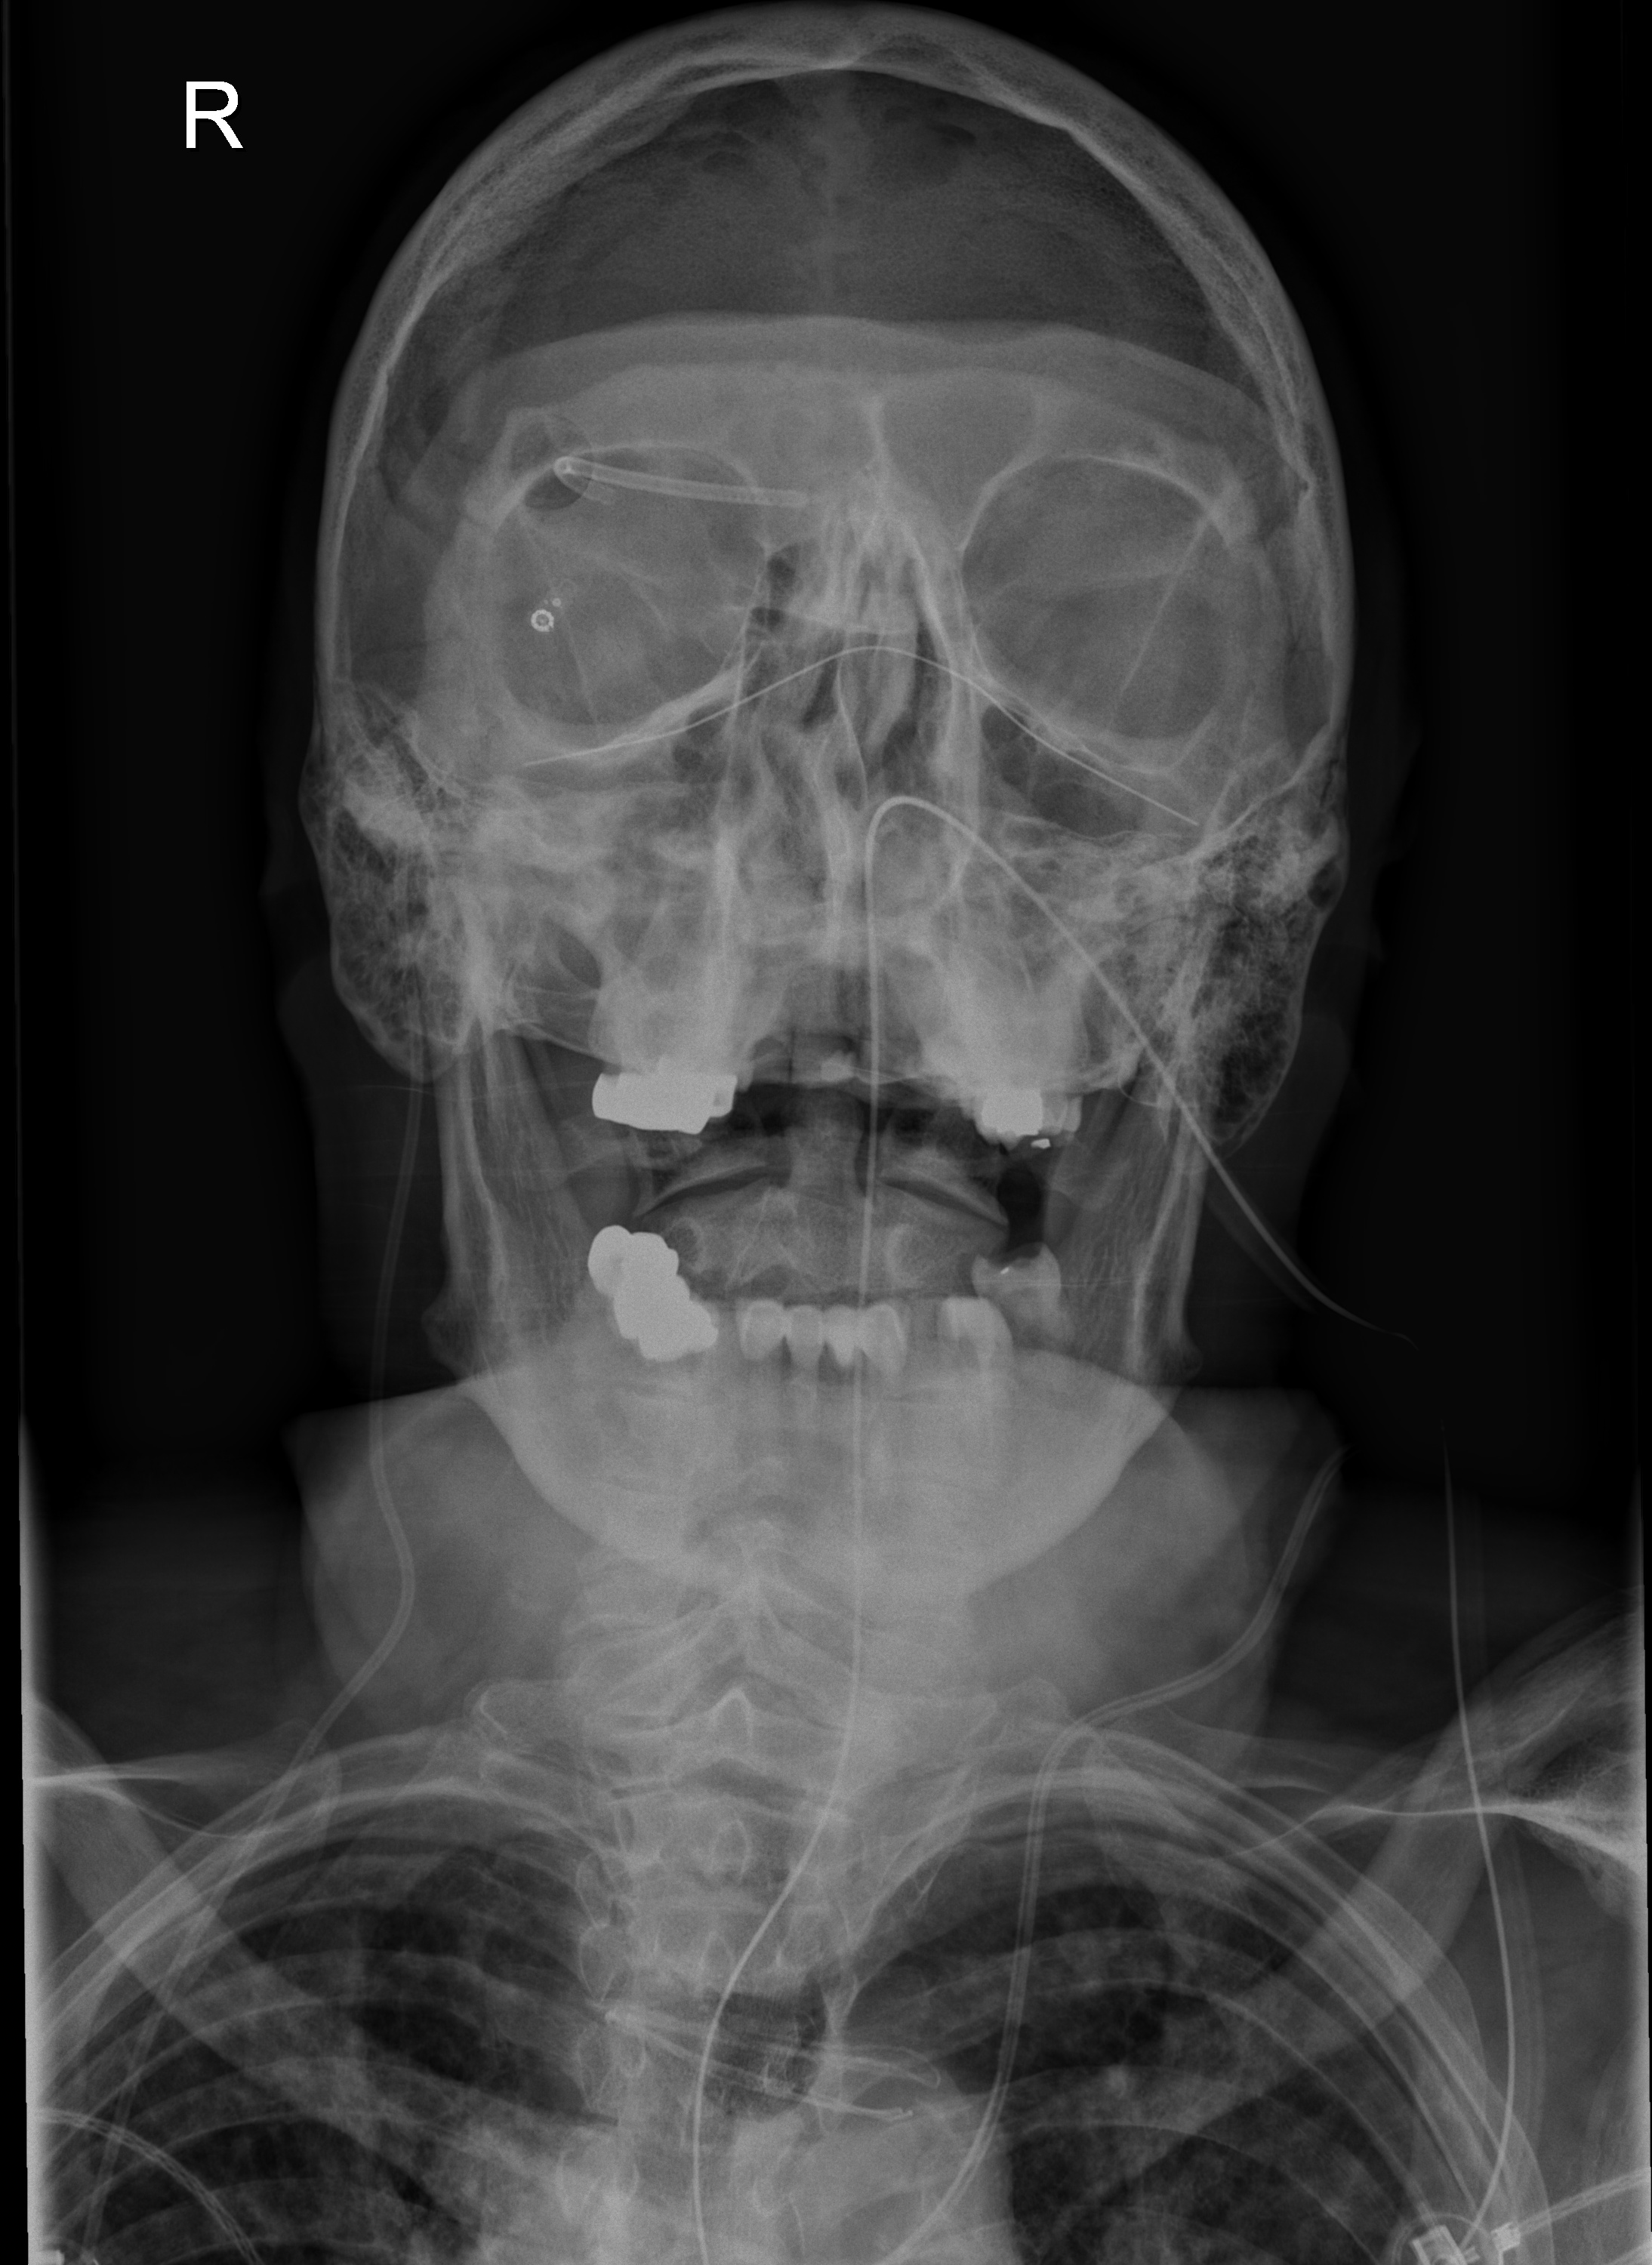Codman Hakim: (528, 593, 570, 640)
